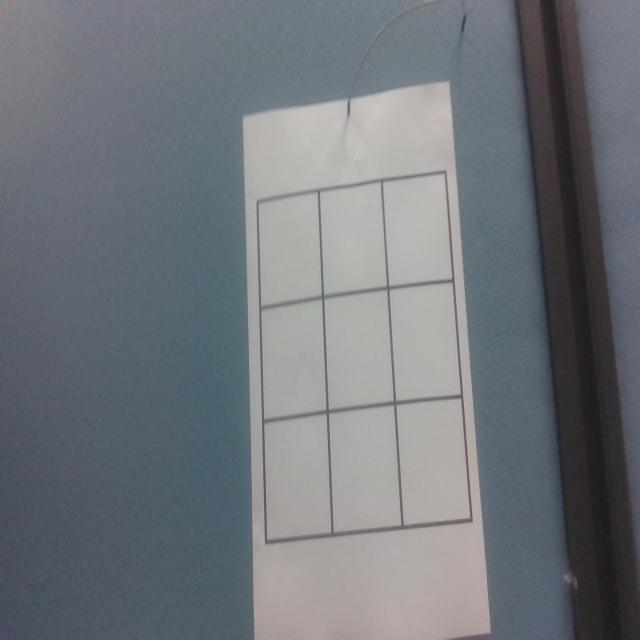null: (397, 398, 471, 530), (331, 405, 403, 536), (264, 412, 332, 543), (325, 289, 396, 413), (392, 283, 463, 405), (385, 173, 455, 288), (263, 299, 328, 419), (321, 182, 387, 296), (260, 191, 322, 307)
table: (237, 164, 476, 551)
